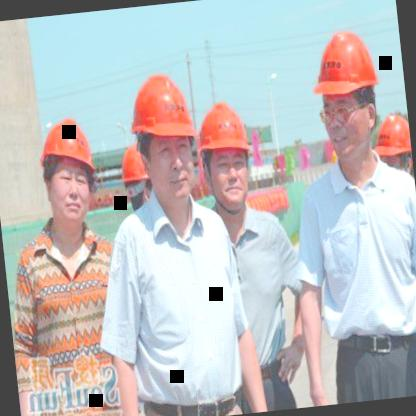helmet: (307, 20, 386, 161), (126, 67, 198, 207), (32, 108, 100, 232), (196, 94, 260, 218), (371, 111, 414, 182), (116, 146, 152, 219)
